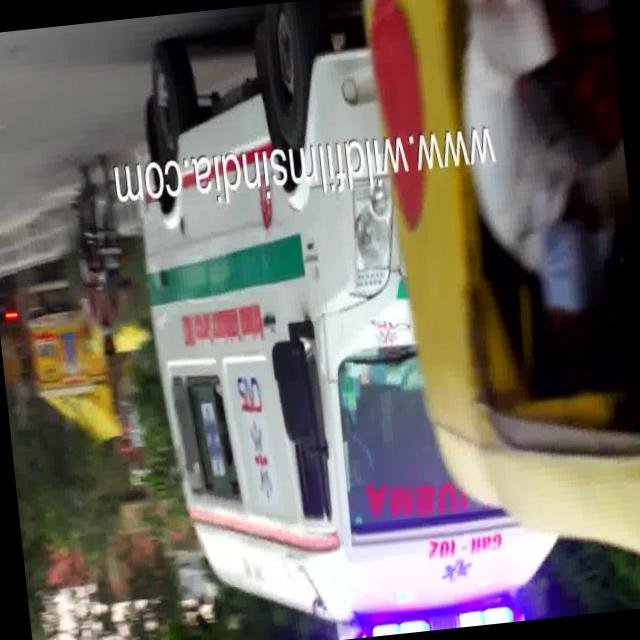ambulance: (106, 165, 436, 546), (163, 517, 572, 640)
